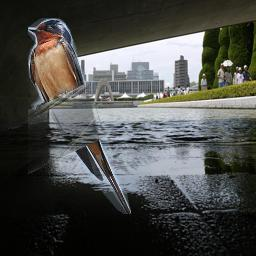Swallow: (28, 18, 131, 214)
